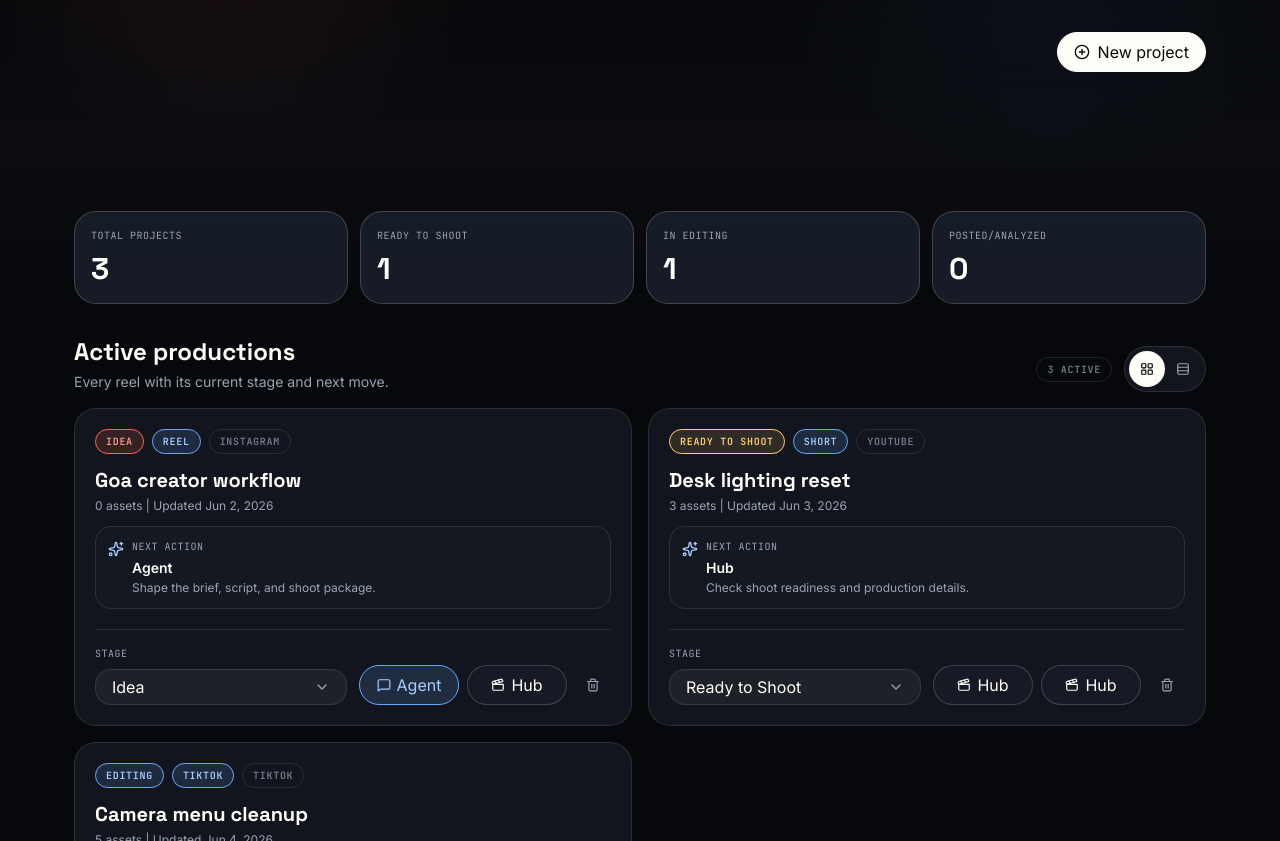
Test: HomePageClient › lets project status change from the home project surface
This screenshot has width=1280, height=841.
Expected: the text "Goa creator workflow" is shown, [95,467,301,493]
Click the button "Idea": x=221, y=687 [95,669,347,705]
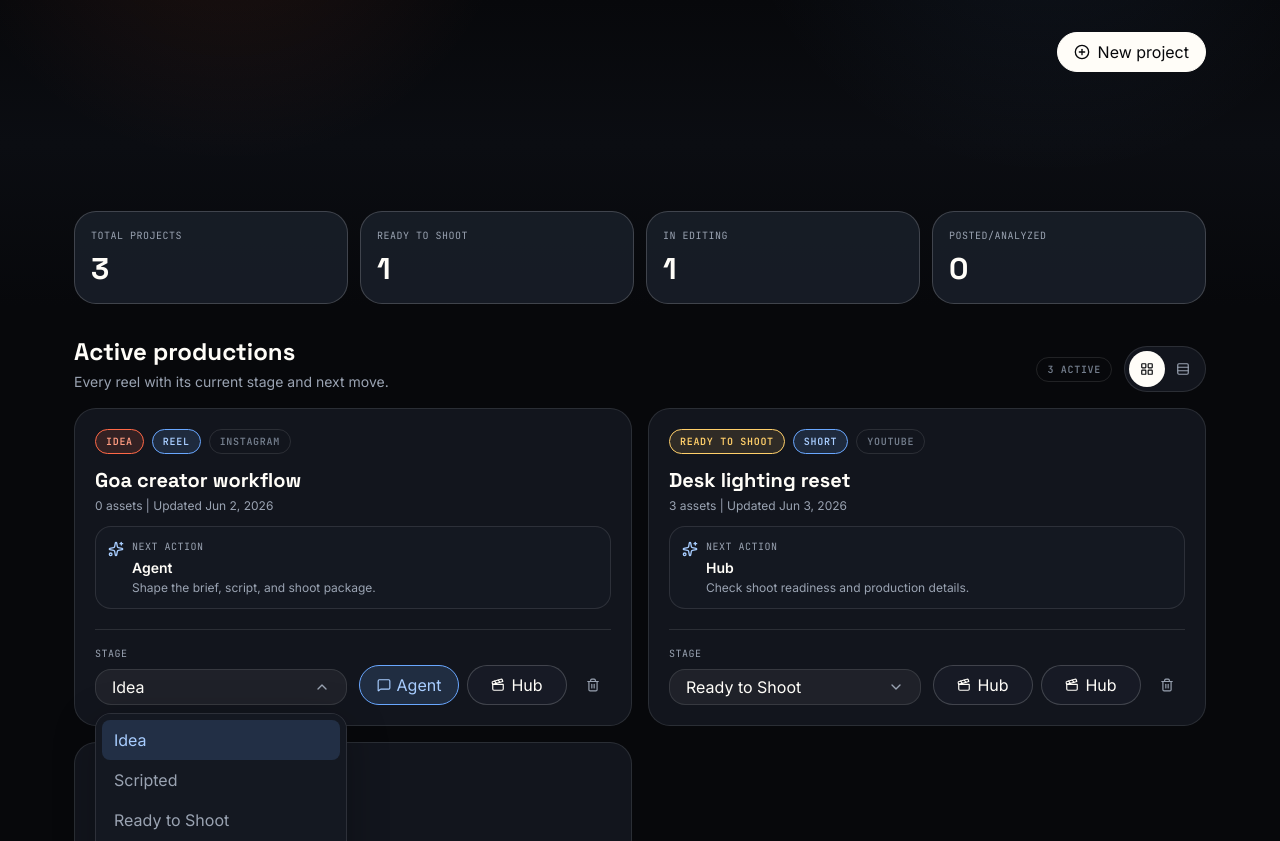
Click the button "Scripted": x=221, y=780 [102,760,340,800]
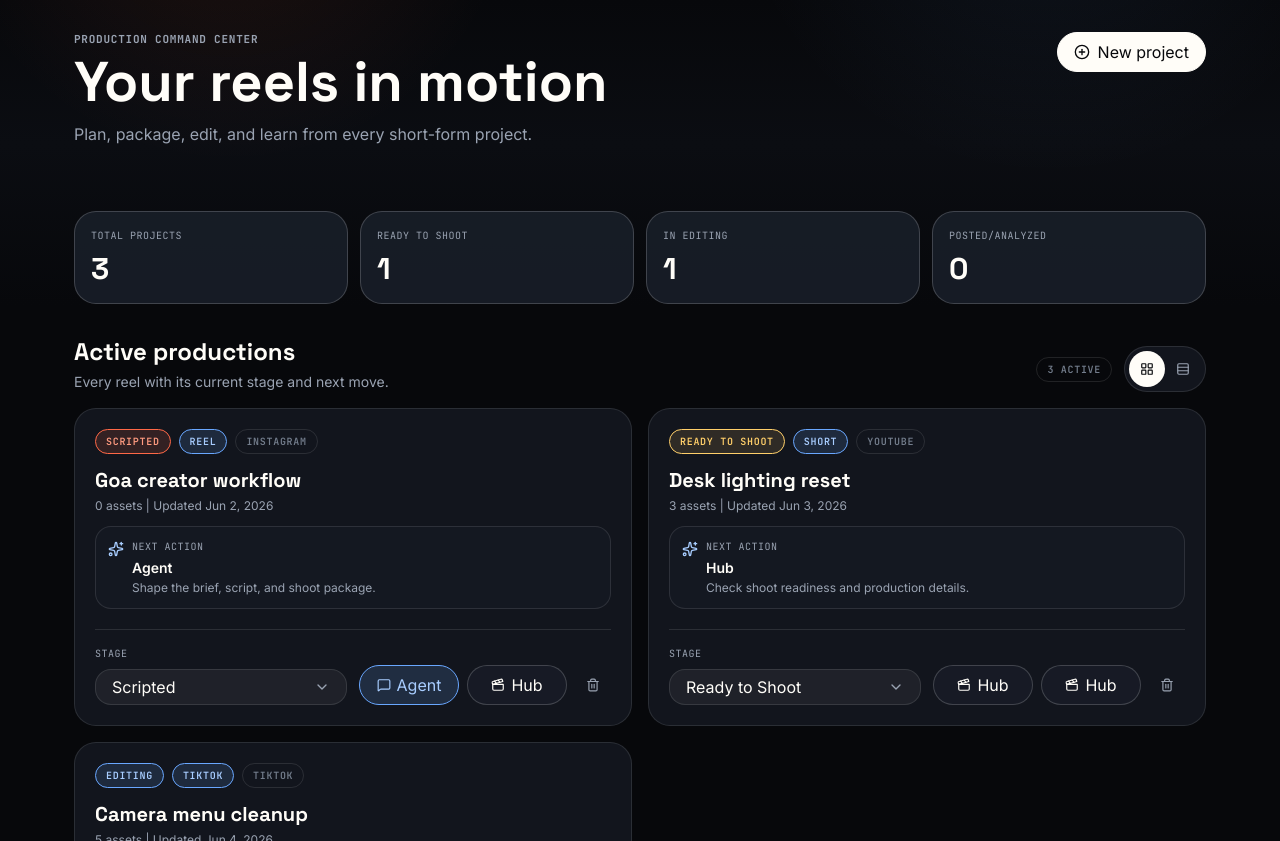
Now the button "Scripted" is shown, box [95,669,347,705]
